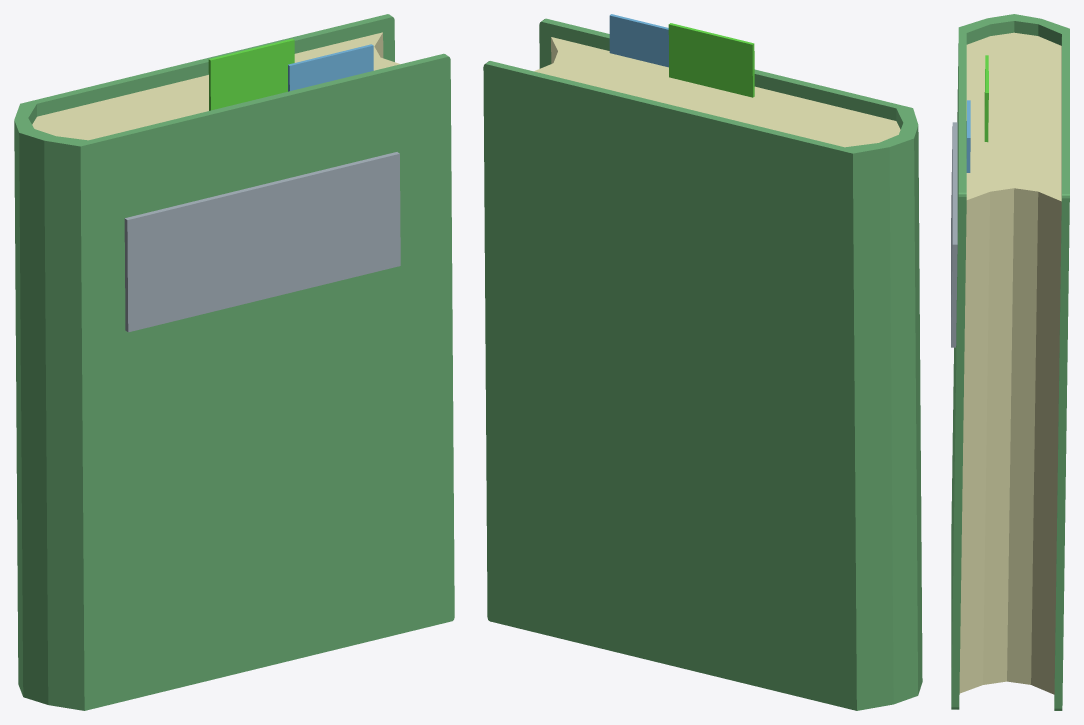
The model's file is book_bkMark_02.fbx.
3 renders of one model, left to right at view 1: azimuth 30°, elevation 25°; view 2: azimuth 150°, elevation 25°; view 3: azimuth 270°, elevation 25°, orthographic. The views are drawn at different scales.
Parts seen in each view (by area): view 1: book_bookMark_02; view 2: book_bookMark_02; view 3: book_bookMark_02.
Part boxes in pixels (box(x1,y1,x2,y2)): book_bookMark_02: box(14, 14, 454, 710); book_bookMark_02: box(483, 14, 922, 710); book_bookMark_02: box(951, 14, 1069, 710).
Size of the model in its own units: 22.44 by 32.22 by 6.25.
